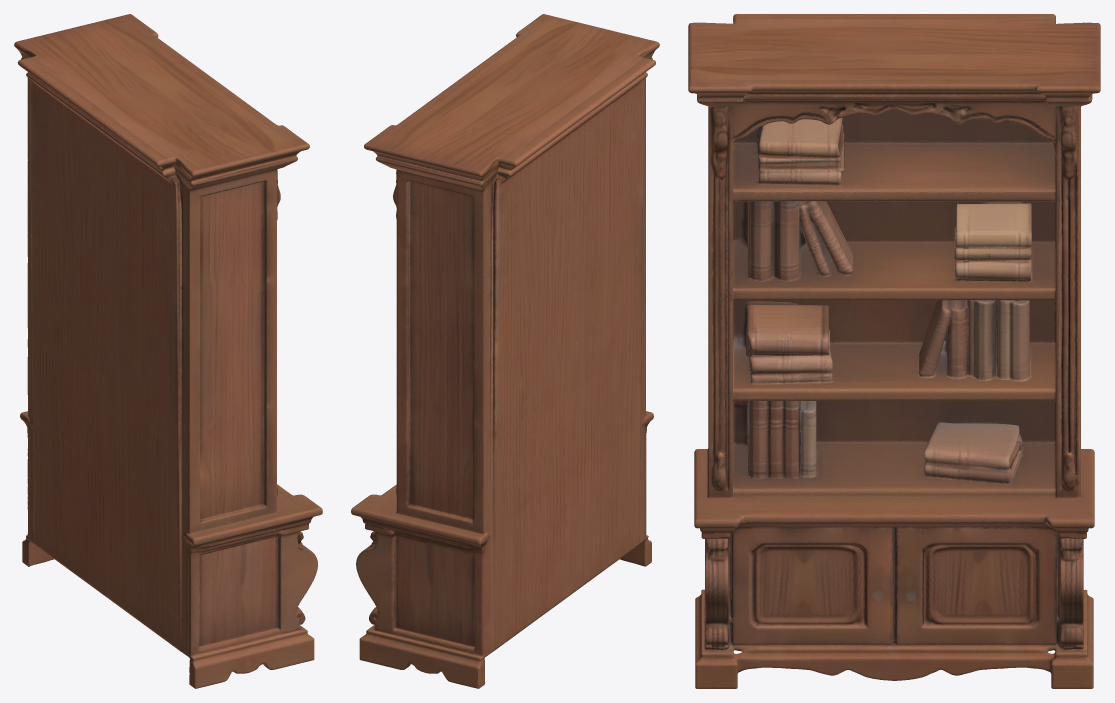
The model's file is detailed_realistic_model_antiquebookshelf_08.glb.
3 renders of one model, left to right at view 1: azimuth 30°, elevation 25°; view 2: azimuth 150°, elevation 25°; view 3: azimuth 270°, elevation 25°, orthographic. The views are drawn at different scales.
Visible parts, largest first — view 1: tripo_node_eb3c35c7-2c55-4fa2-9c15-32914ba499ef; view 2: tripo_node_eb3c35c7-2c55-4fa2-9c15-32914ba499ef; view 3: tripo_node_eb3c35c7-2c55-4fa2-9c15-32914ba499ef.
Boxes of the visible parts, <box> form: tripo_node_eb3c35c7-2c55-4fa2-9c15-32914ba499ef: <box>14,14,322,688</box>; tripo_node_eb3c35c7-2c55-4fa2-9c15-32914ba499ef: <box>351,14,659,688</box>; tripo_node_eb3c35c7-2c55-4fa2-9c15-32914ba499ef: <box>688,14,1100,688</box>.
Size of the model in its own units: 0.3 by 1 by 0.625.
Materials: 1 (1 with a texture image).
